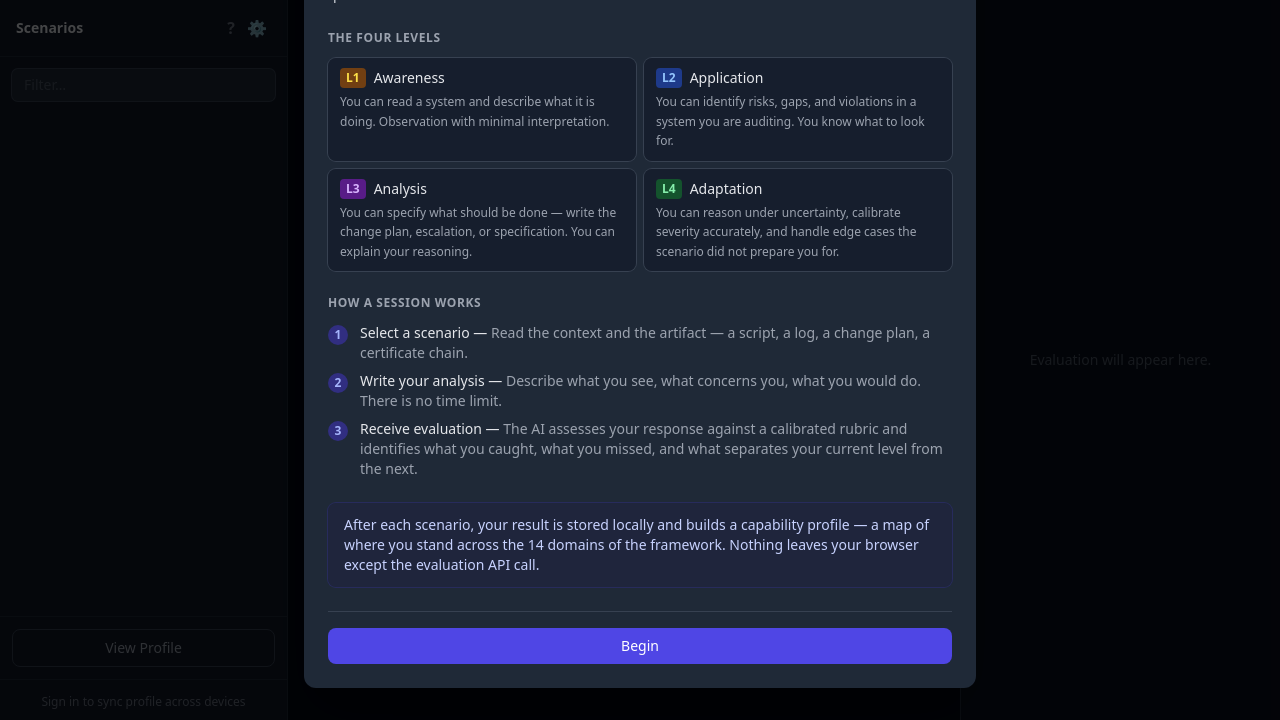
Test case: App first-run and mobile layout › shows onboarding before login and never renders both dialogs
(page scrolled)
Click the button "Begin" at [640, 646], box [328,628,952,664]
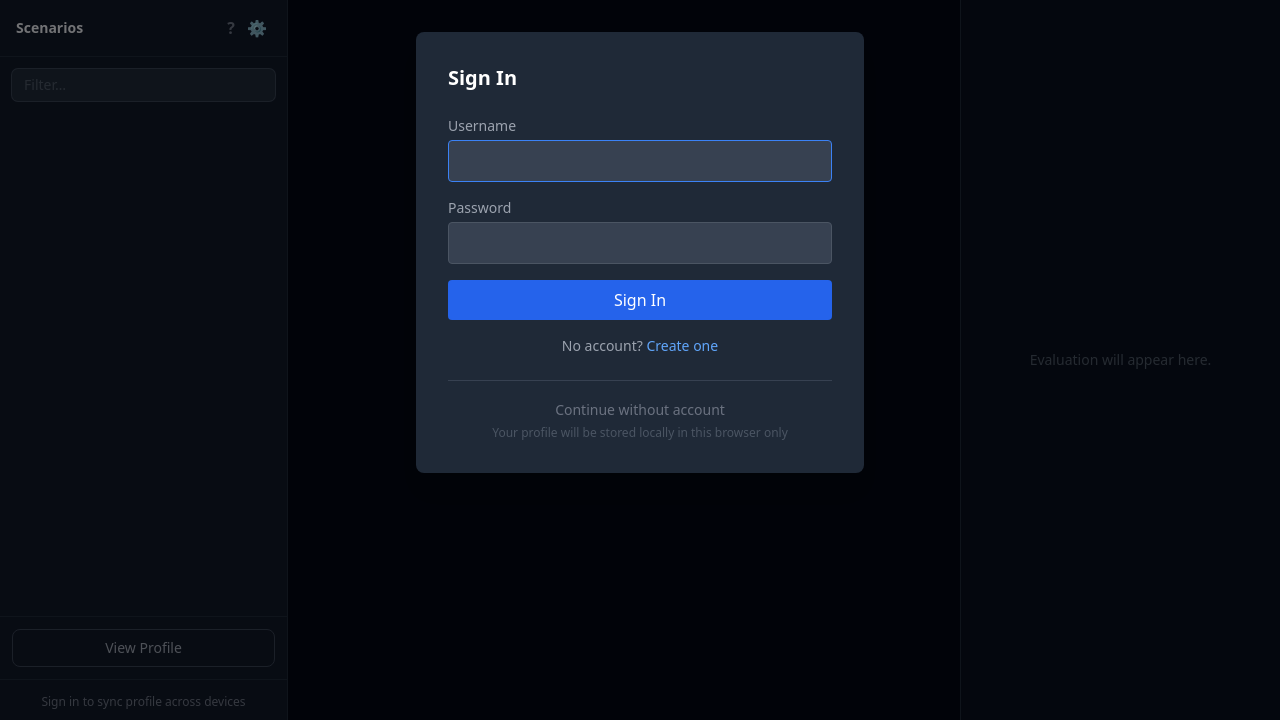
Now the dialog "Sign In" is shown
